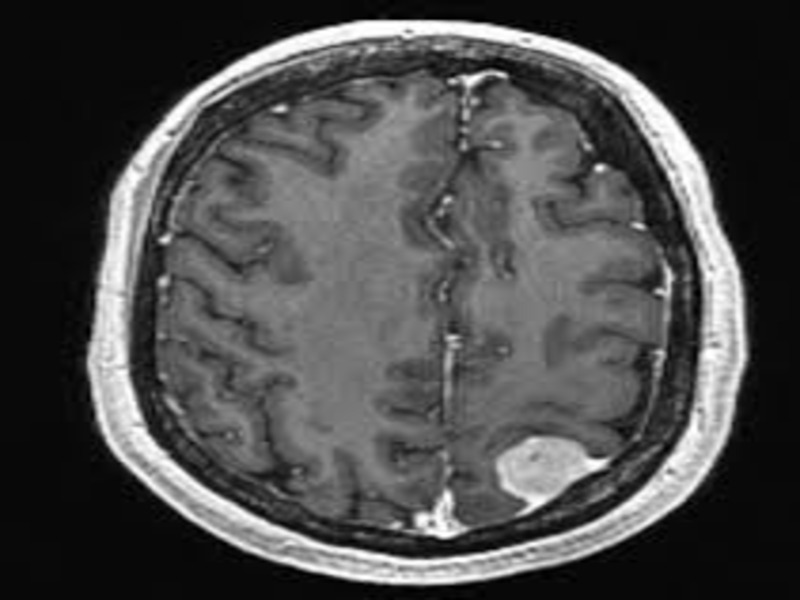tumor: (488, 424, 618, 526)
